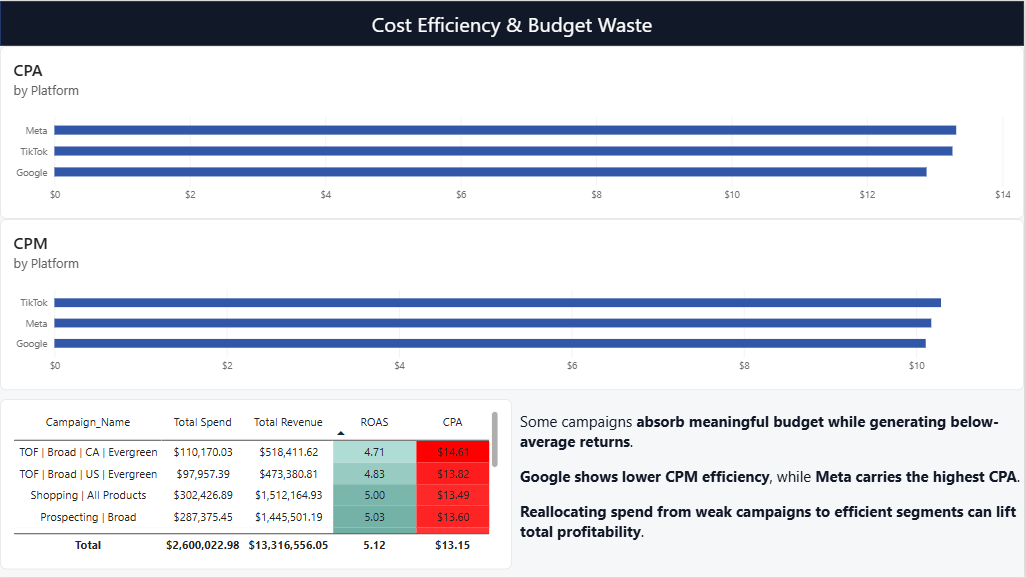

The dashboard page shown, as its layout file describes it:
{"tool":"powerbi","page":{"name":"Cost Efficiency & Budget Waste","canvas":[1280,720],"ordinal":4},"visuals":[{"type":"shape","box":[0,0,1280,56.2],"z":0},{"type":"barChart","fields":{"Category":["dim_platform.Platform"],"Y":["Formulas.CPA"]},"box":[0,56.2,1280,216.2],"z":1000},{"type":"barChart","fields":{"Category":["dim_platform.Platform"],"Y":["Formulas.CPM"]},"box":[0,272.5,1280,213.8],"z":2000},{"type":"tableEx","fields":{"Values":["fact_campaigns.Campaign_Name","Formulas.Total Spend","Formulas.Total Revenue","Formulas.ROAS","Formulas.CPA"]},"box":[0,497.8,640.3,213],"z":3000},{"type":"textbox","box":[650,512.7,630,177.7],"z":4000}]}

Visuals, with their boxes in screenshot pixels (x1, y1, x2, y2), scaled from the page's 1280x720 canvas onto the 1026x578 screenshot:
shape: <region>0, 0, 1025, 45</region>
barChart - dim_platform.Platform x Formulas.CPA: <region>0, 45, 1025, 219</region>
barChart - dim_platform.Platform x Formulas.CPM: <region>0, 219, 1025, 390</region>
tableEx - fact_campaigns.Campaign_Name x Formulas.Total Spend: <region>0, 400, 513, 571</region>
textbox: <region>521, 412, 1025, 554</region>
